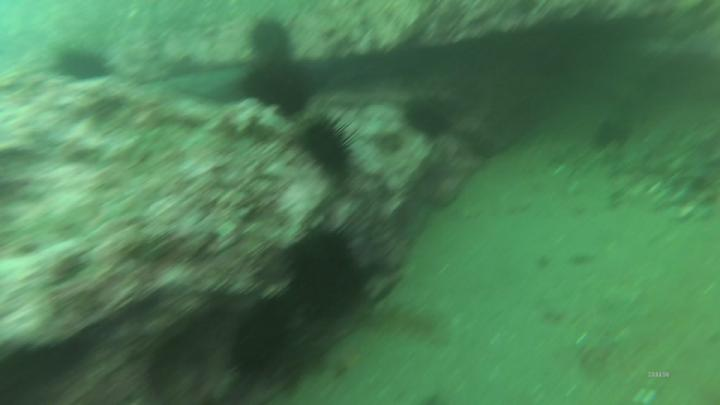echinus: (280, 216, 375, 323), (230, 296, 293, 375), (299, 110, 364, 182), (243, 63, 315, 115), (400, 97, 456, 143), (249, 20, 300, 69), (59, 44, 115, 84)
